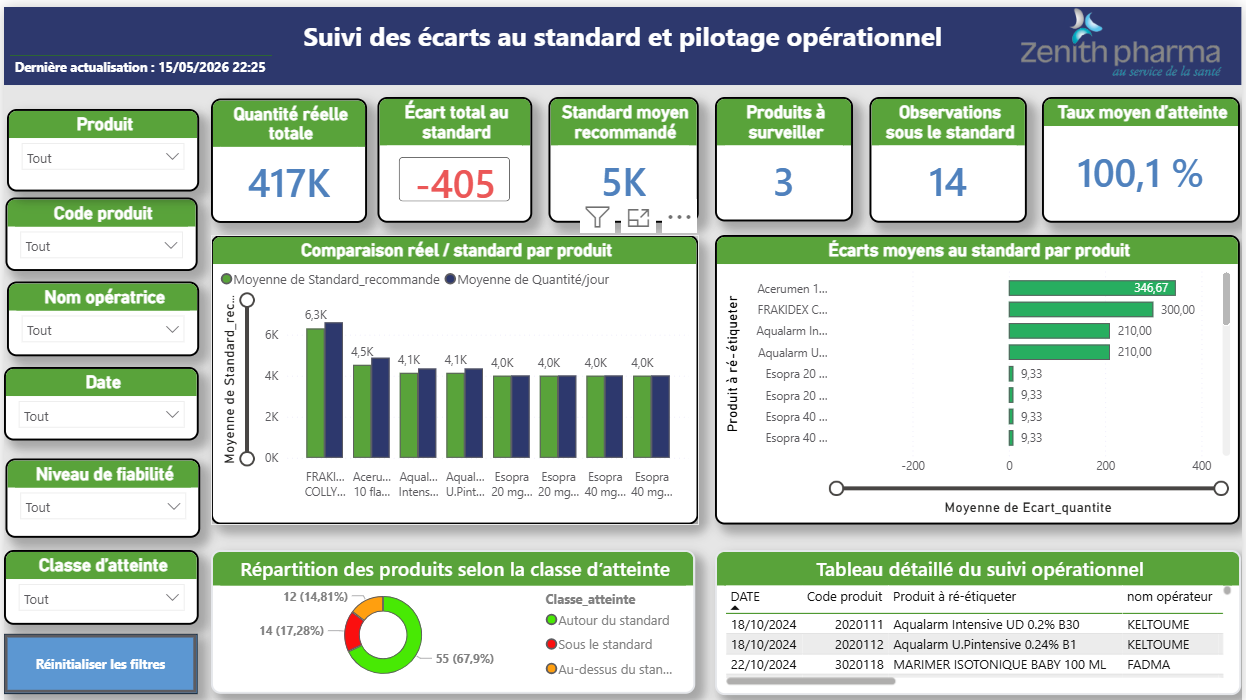

What the dashboard file says about the page in this screenshot:
{"tool":"powerbi","page":{"name":"Dashboard de pilotage global du service","canvas":[1280,720],"ordinal":3},"visuals":[{"type":"textbox","box":[0,0,1279.5,80.6],"z":0},{"type":"image","box":[1029.8,0,249.7,76],"z":1000},{"type":"cardVisual","title":"Standard moyen recommandé","fields":{"Data":["Base_enrichie.Standard_Moyen"]},"box":[563,93.1,155.1,130.3],"z":2000},{"type":"cardVisual","title":"Taux moyen d’atteinte","fields":{"Data":["Base_enrichie.Taux_Moyen_Atteinte_Pct"]},"box":[1073.2,93.1,204.7,130.3],"z":3000},{"type":"cardVisual","title":"Produits à surveiller","fields":{"Data":["Base_enrichie.Produits_A_Surveiller"]},"box":[735.1,93.1,142.7,128.7],"z":4000},{"type":"slicer","title":"Code produit","fields":{"Values":["Base_enrichie.Code produit"]},"box":[1.6,197,198.5,76],"z":5000},{"type":"slicer","title":"Produit","fields":{"Values":["Base_enrichie.Produit à ré-étiqueter"]},"box":[3.1,105.5,198.5,85.3],"z":6000},{"type":"slicer","title":"Nom opératrice","fields":{"Values":["Base_enrichie.nom opérateur"]},"box":[3.1,283.8,198.5,77.5],"z":7000},{"type":"slicer","title":"Date","fields":{"Values":["Base_enrichie.DATE"]},"box":[0,372.2,201.6,76],"z":8000},{"type":"slicer","title":"Niveau de fiabilité","fields":{"Values":["Base_enrichie.Niveau_fiabilite"]},"box":[1.6,466.8,201.6,82.2],"z":9000},{"type":"slicer","title":"Classe d’atteinte","fields":{"Values":["Base_enrichie.Classe_atteinte"]},"box":[0,561.4,201.6,77.5],"z":10000},{"type":"actionButton","box":[0,648.3,200.1,62],"z":11000},{"type":"cardVisual","title":"Quantité réelle totale","fields":{"Data":["Base_enrichie.Quantite_Reelle_Totale"]},"box":[214,94.6,161.3,128.7],"z":12000},{"type":"cardVisual","title":"Écart total au standard","fields":{"Data":["Base_enrichie.Ecart_Total"]},"box":[386.2,93.1,159.7,130.3],"z":13000},{"type":"cardVisual","title":"Observations sous le standard","fields":{"Data":["Base_enrichie.Obs_Sous_Standard"]},"box":[894.9,93.1,162.8,130.3],"z":14000},{"type":"clusteredColumnChart","title":"Comparaison réel / standard par produit","fields":{"Category":["Base_enrichie.Produit à ré-étiqueter"],"Y":["Avg(Base_enrichie.Standard_recommande)","Avg(Base_enrichie.Quantité/jour)"]},"box":[214,235.7,504,299.3],"z":15000},{"type":"clusteredBarChart","title":"Écarts moyens au standard par produit","fields":{"Category":["Base_enrichie.Produit à ré-étiqueter"],"Y":["Avg(Base_enrichie.Ecart_quantite)"]},"box":[735.1,235.7,542.8,299.3],"z":16000},{"type":"donutChart","title":"Répartition des produits selon la classe d’atteinte","fields":{"Category":["Base_enrichie.Classe_atteinte"],"Y":["CountNonNull(Base_enrichie.Code produit)"]},"box":[214,561.4,500.9,148.9],"z":17000},{"type":"tableEx","title":"Tableau détaillé du suivi opérationnel","fields":{"Values":["Base_enrichie.DATE","Base_enrichie.Code produit","Base_enrichie.Produit à ré-étiqueter","Base_enrichie.nom opérateur","Avg(Base_enrichie.Quantité/jour)","Avg(Base_enrichie.Standard_recommande)","Avg(Base_enrichie.Ecart_quantite)","Avg(Base_enrichie.Taux_atteinte_%)","Base_enrichie.Classe_atteinte","Base_enrichie.Niveau_fiabilite"]},"box":[735,561,544,150],"z":18000},{"type":"tableEx","fields":{"Values":["Base_enrichie.Texte_Mise_A_Jour"]},"box":[0,17.1,294.7,63.6],"z":19000}]}

Visuals, with their boxes in screenshot pixels (x1, y1, x2, y2), scaled from the page's 1280x720 canvas onto the 1246x700 screenshot:
textbox: 0/0/1245/78
image: 1002/0/1245/74
"Standard moyen recommandé" cardVisual: 548/91/699/217
"Taux moyen d’atteinte" cardVisual: 1045/91/1244/217
"Produits à surveiller" cardVisual: 716/91/854/216
"Code produit" slicer: 2/192/195/265
"Produit" slicer: 3/103/196/186
"Nom opératrice" slicer: 3/276/196/351
"Date" slicer: 0/362/196/436
"Niveau de fiabilité" slicer: 2/454/198/534
"Classe d’atteinte" slicer: 0/546/196/621
actionButton: 0/630/195/691
"Quantité réelle totale" cardVisual: 208/92/365/217
"Écart total au standard" cardVisual: 376/91/531/217
"Observations sous le standard" cardVisual: 871/91/1030/217
"Comparaison réel / standard par produit" clusteredColumnChart: 208/229/699/520
"Écarts moyens au standard par produit" clusteredBarChart: 716/229/1244/520
"Répartition des produits selon la classe d’atteinte" donutChart: 208/546/696/691
"Tableau détaillé du suivi opérationnel" tableEx: 715/545/1245/691
tableEx - Base_enrichie.Texte_Mise_A_Jour: 0/17/287/78
